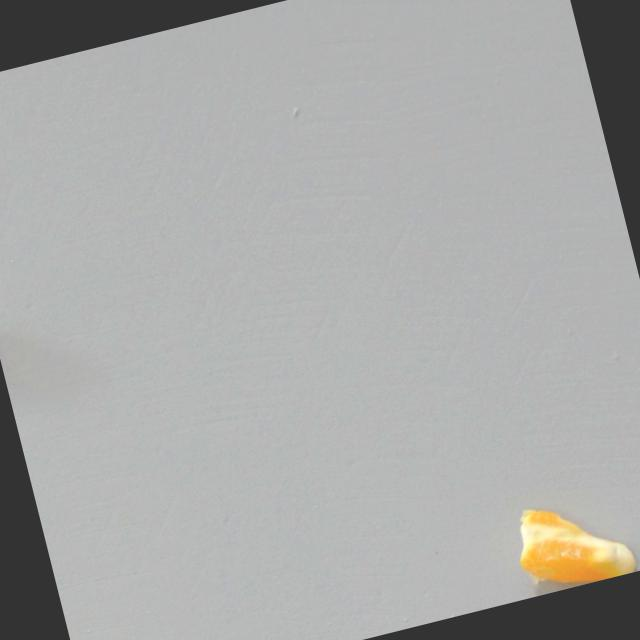pelicula: (507, 486, 640, 598)
